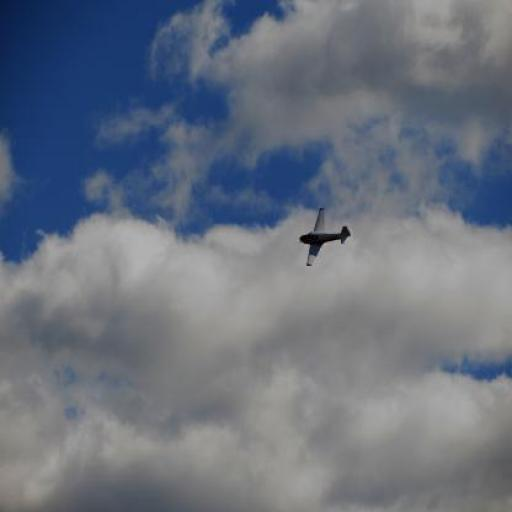aircraft: (300, 207, 351, 267)
